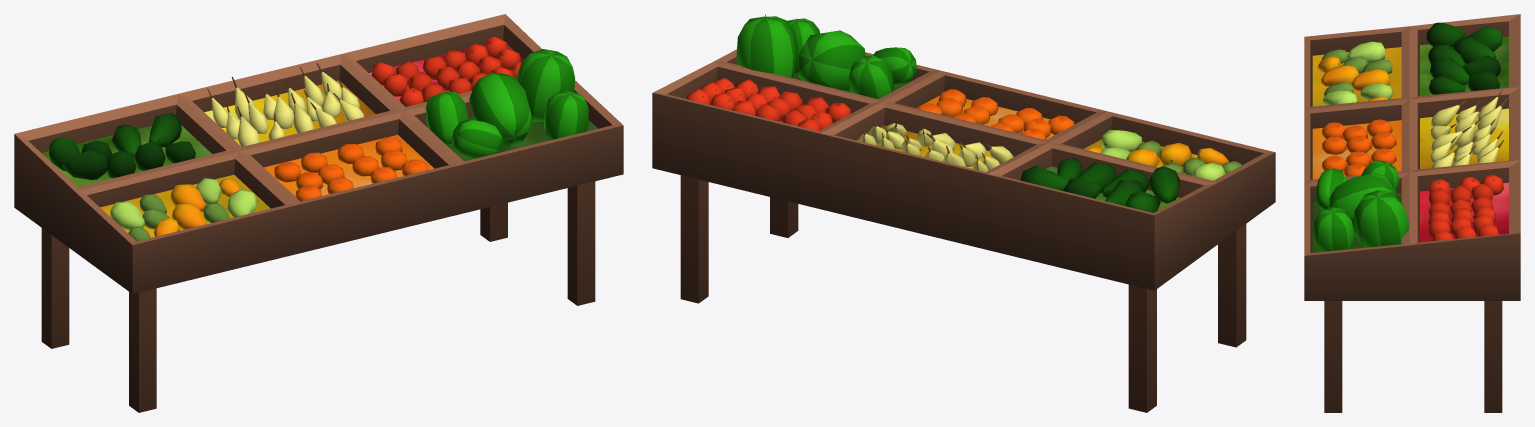
File: MejaBuah.fbx
3 renders of one model, left to right at view 1: azimuth 30°, elevation 25°; view 2: azimuth 150°, elevation 25°; view 3: azimuth 270°, elevation 25°, orthographic. The views are drawn at different scales.
Parts seen in each view (by area): view 1: MejaJualan1_LOD0, BuahSemangka_LOD0, BuahLayer_LOD0, BuahPear_LOD0, BuahAvocado_LOD0, BuahApple_LOD0, BuahMango_LOD0, BuahJeruk_LOD0; view 2: MejaJualan1_LOD0, BuahSemangka_LOD0, BuahAvocado_LOD0, BuahApple_LOD0, BuahMango_LOD0, BuahPear_LOD0, BuahJeruk_LOD0, BuahLayer_LOD0; view 3: MejaJualan1_LOD0, BuahLayer_LOD0, BuahSemangka_LOD0, BuahAvocado_LOD0, BuahApple_LOD0, BuahPear_LOD0, BuahMango_LOD0, BuahJeruk_LOD0.
Boxes of the visible parts, x1=… form: MejaJualan1_LOD0: x1=14, y1=14, x2=623, y2=412; BuahSemangka_LOD0: x1=425, y1=49, x2=588, y2=158; BuahLayer_LOD0: x1=42, y1=45, x2=597, y2=237; BuahPear_LOD0: x1=207, y1=63, x2=364, y2=146; BuahAvocado_LOD0: x1=49, y1=113, x2=195, y2=179; BuahApple_LOD0: x1=371, y1=36, x2=521, y2=106; BuahMango_LOD0: x1=110, y1=178, x2=257, y2=240; BuahJeruk_LOD0: x1=274, y1=137, x2=428, y2=201; MejaJualan1_LOD0: x1=652, y1=49, x2=1275, y2=412; BuahSemangka_LOD0: x1=736, y1=14, x2=916, y2=98; BuahAvocado_LOD0: x1=1020, y1=158, x2=1179, y2=212; BuahApple_LOD0: x1=686, y1=78, x2=850, y2=131; BuahMango_LOD0: x1=1085, y1=130, x2=1241, y2=180; BuahPear_LOD0: x1=858, y1=121, x2=1013, y2=171; BuahJeruk_LOD0: x1=917, y1=89, x2=1074, y2=139; BuahLayer_LOD0: x1=779, y1=73, x2=1196, y2=210; MejaJualan1_LOD0: x1=1304, y1=14, x2=1520, y2=412; BuahLayer_LOD0: x1=1312, y1=36, x2=1508, y2=252; BuahSemangka_LOD0: x1=1313, y1=160, x2=1408, y2=251; BuahAvocado_LOD0: x1=1426, y1=22, x2=1502, y2=94; BuahApple_LOD0: x1=1428, y1=175, x2=1503, y2=240; BuahPear_LOD0: x1=1430, y1=89, x2=1507, y2=167; BuahMango_LOD0: x1=1317, y1=41, x2=1393, y2=105; BuahJeruk_LOD0: x1=1321, y1=119, x2=1396, y2=176.
Size of what is drawn, in the model's own units: 249 by 113 by 104.
